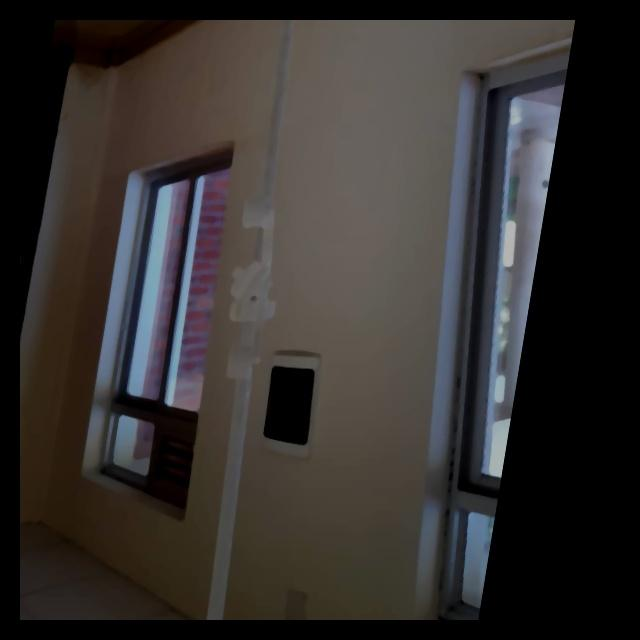Stand: (100, 20, 447, 620)
